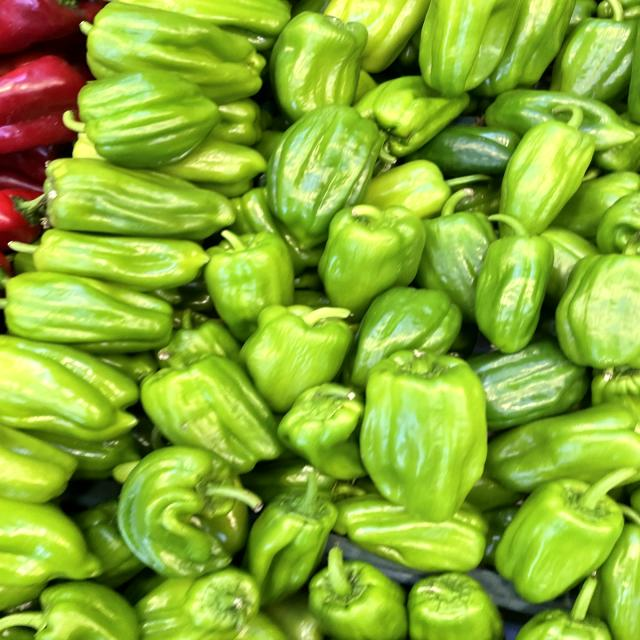bell pepper: (351, 339, 506, 522), (480, 459, 640, 606), (25, 150, 239, 244), (314, 193, 438, 312)
